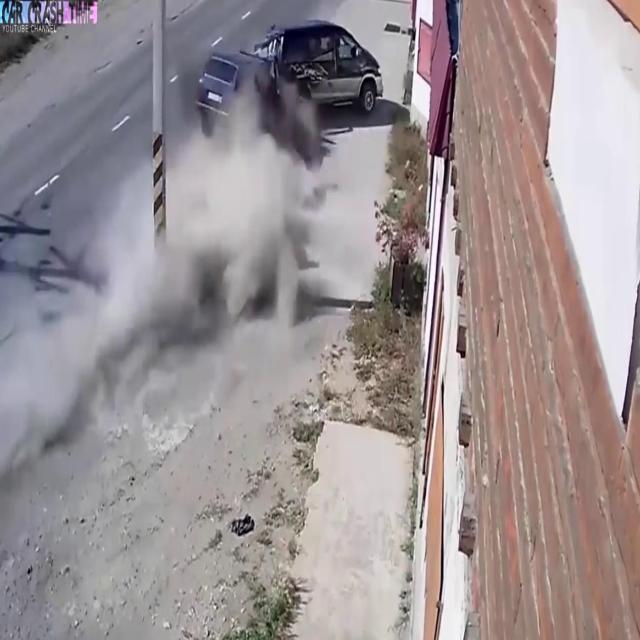accident: (183, 10, 389, 182)
